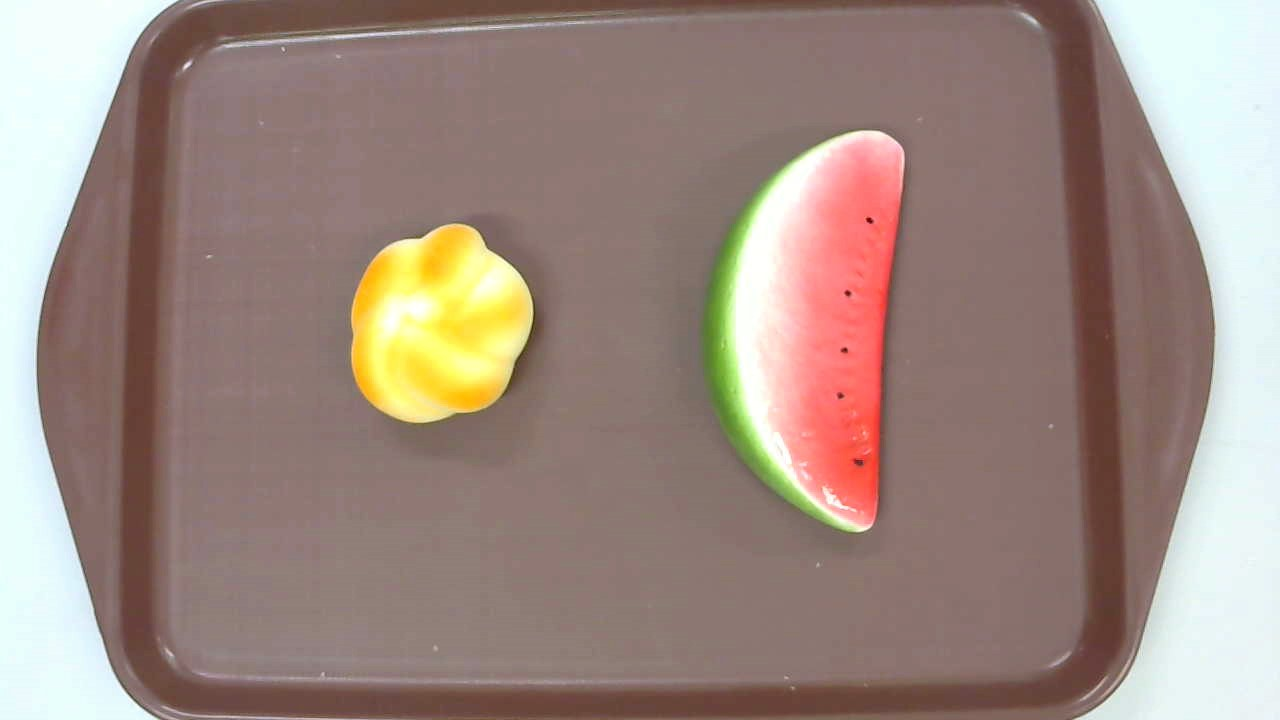twist bread: (348, 223, 535, 426)
water melon: (701, 130, 905, 534)
